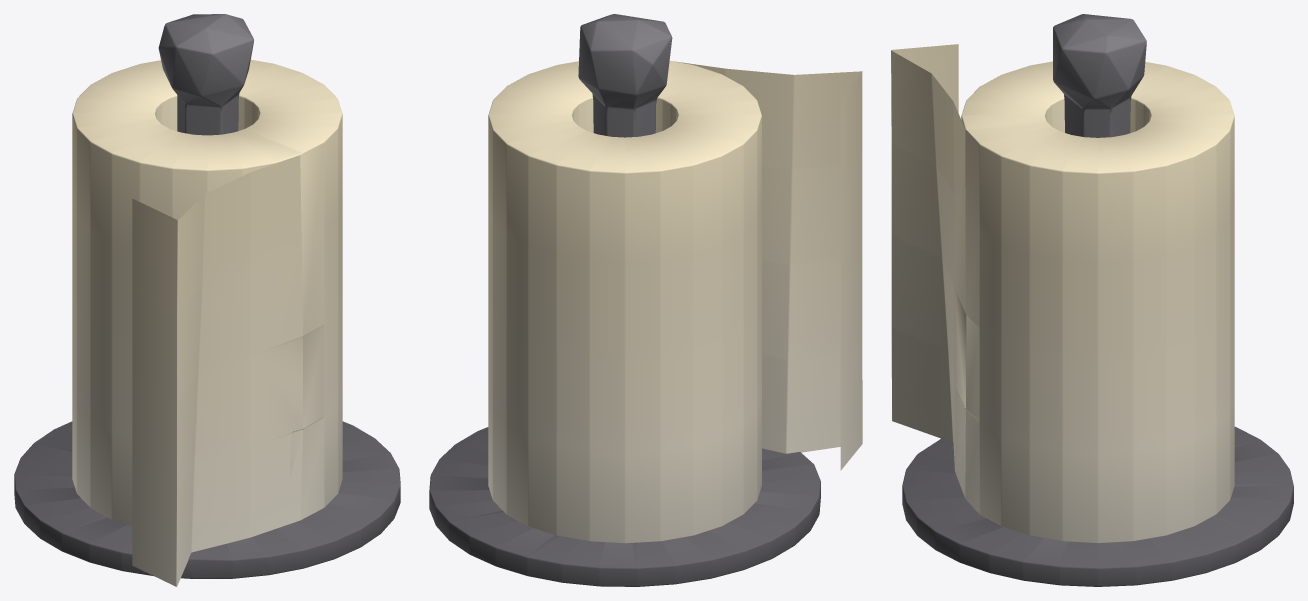
The model's file is Paper Towel.fbx.
3 views of the same model, side by side, from view 1: azimuth 30°, elevation 25°; view 2: azimuth 150°, elevation 25°; view 3: azimuth 270°, elevation 25° (orthographic).
Visible parts, largest first — view 1: Paper Towel; view 2: Paper Towel; view 3: Paper Towel.
Boxes of the visible parts, left/top/right/bottom form: Paper Towel: left=14, top=14, right=400, bottom=586; Paper Towel: left=429, top=14, right=862, bottom=586; Paper Towel: left=891, top=14, right=1293, bottom=586.
Bounding box in the file's own units: 122 × 165 × 125.
